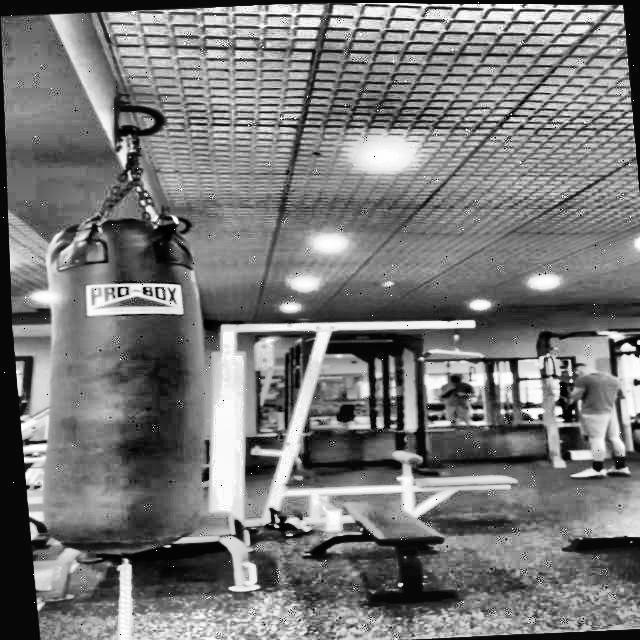boxing-bag: (16, 97, 221, 566)
